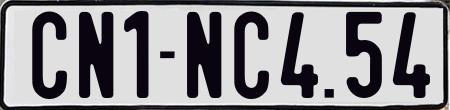1: (122, 9, 148, 102)
4: (390, 9, 429, 99), (281, 9, 321, 95)
5: (343, 10, 382, 98)
C: (231, 8, 272, 97), (32, 11, 72, 99)
N: (185, 10, 222, 99), (79, 12, 113, 99)
